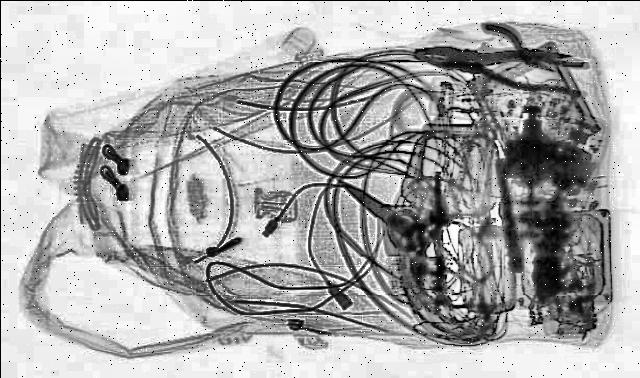Pliers: (400, 34, 596, 99)
